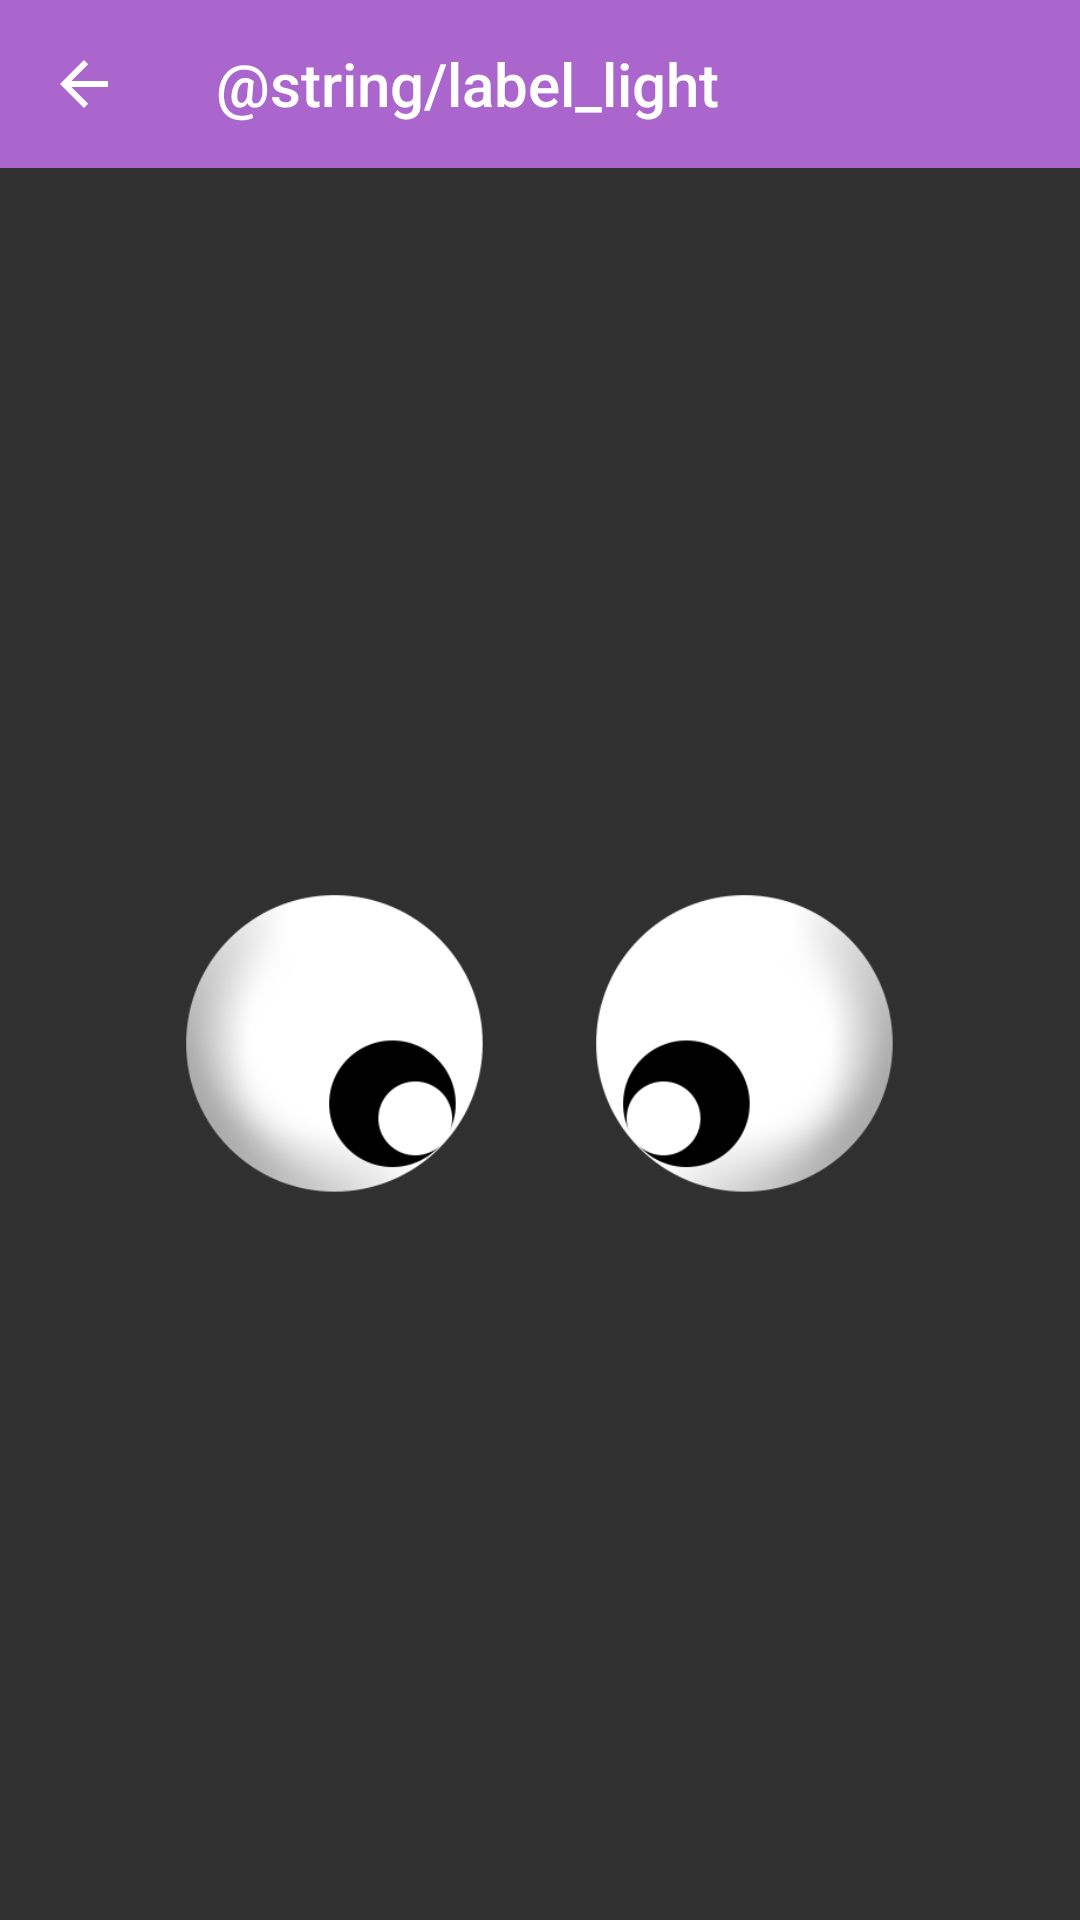

Screen size 1080×1920. Icon name, then its box in pixels as (x1, y1, x2, y2):
eye: (186, 895, 483, 1192)
eye right: (596, 895, 893, 1192)
